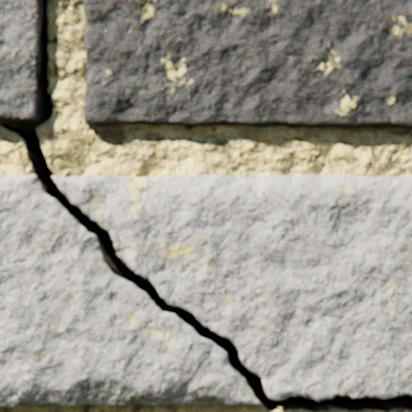brick: (84, 0, 411, 129), (0, 0, 42, 122)
broken_brick: (53, 175, 411, 400), (0, 175, 261, 406)
crack: (0, 0, 411, 411)
